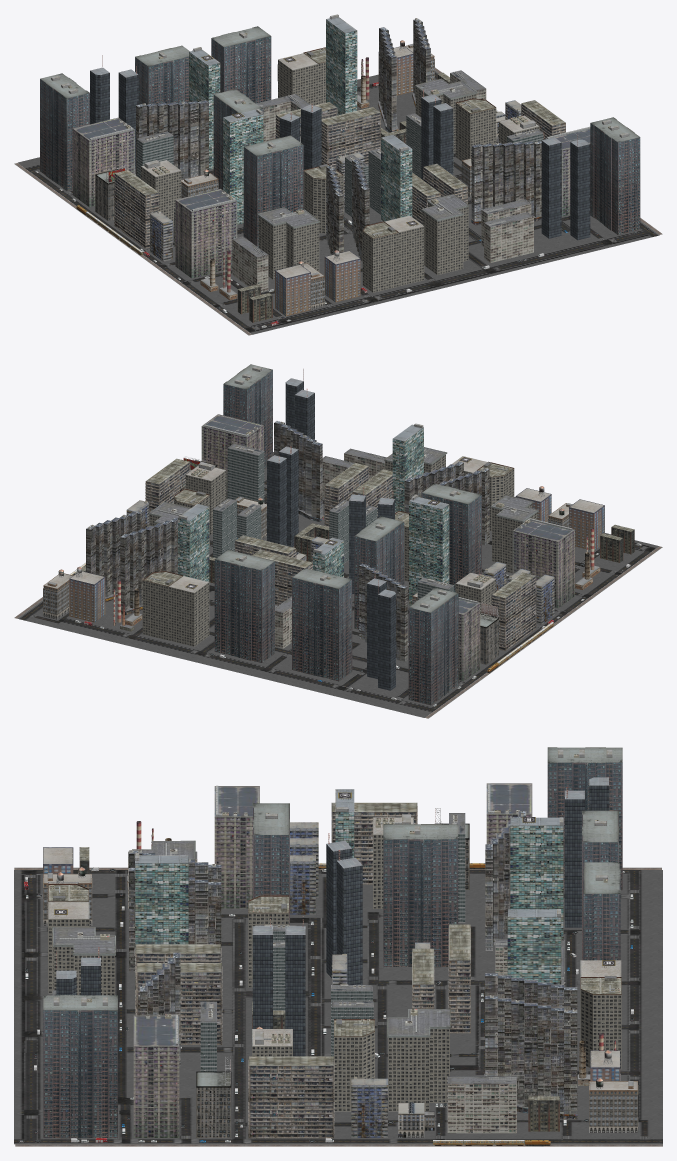
File: map.glb
The picture shows the model from 3 angles, top to bottom: view 1: azimuth 30°, elevation 25°; view 2: azimuth 150°, elevation 25°; view 3: azimuth 270°, elevation 25°; orthographic projection. The views are drawn at different scales.
Visible parts, largest first — view 1: Plane_504, Building2_8, Building2.005_447, Building12.002_173, Building3.002_463, Building2.003_272, Building12.005_400, Building3.001_278, Building2.002_209, building.018_337, building.012_219, Building1.001_200 (+50 smaller); view 2: Plane_504, Building2.002_209, Building2.004_430, Building2.003_272, Building3.002_463, Building1.002_265, Building12.001_99, Building2.005_447, Building2.001_205, Building2_8, building.007_165, Building12_104 (+45 smaller); view 3: Plane_504, Building2_8, Building2.001_205, Building12_104, Building5_51, building.001_97, Building3_14, Building1_1, Building1.003_425, Building3.002_463, Building2.003_272, Building10_132 (+49 smaller).
Part boxes in pixels (box(x1,y1,x2,y2)): Plane_504: box(18, 71, 659, 334); Building2_8: box(590, 117, 640, 234); Building2.005_447: box(243, 135, 303, 247); Building12.002_173: box(471, 140, 541, 220); Building3.002_463: box(175, 189, 237, 278); Building2.003_272: box(40, 73, 89, 190); Building12.005_400: box(136, 100, 208, 177); Building3.001_278: box(73, 117, 134, 207); Building2.002_209: box(211, 26, 271, 103); building.018_337: box(257, 207, 320, 279); building.012_219: box(421, 194, 469, 274); Building1.001_200: box(326, 17, 357, 115); Plane_504: box(18, 452, 658, 717); Building2.002_209: box(214, 549, 274, 662); Building2.004_430: box(292, 568, 352, 681); Building2.003_272: box(408, 587, 458, 705); Building3.002_463: box(512, 520, 574, 608); Building1.002_265: box(409, 497, 449, 605); Building12.001_99: box(120, 517, 177, 610); Building2.005_447: box(421, 483, 481, 592); Building2.001_205: box(354, 516, 404, 629); Building2_8: box(223, 364, 272, 468); building.007_165: box(168, 576, 209, 646); Building12_104: box(86, 509, 145, 597); Plane_504: box(14, 870, 662, 1144); Building2_8: box(43, 995, 117, 1138); Building2.001_205: box(383, 824, 458, 967); Building12_104: box(485, 996, 577, 1113); Building5_51: box(248, 1056, 334, 1138); building.001_97: box(387, 1009, 450, 1111); Building3_14: box(133, 1015, 179, 1137); Building1_1: box(510, 817, 563, 939); Building1.003_425: box(135, 855, 188, 1006); Building3.002_463: box(214, 786, 259, 908); Building2.003_272: box(547, 747, 622, 890); Building10_132: box(447, 1076, 516, 1133).
Bounding box in the file's own units: 407 × 104 × 400.
Materials: 6 (6 with a texture image).
